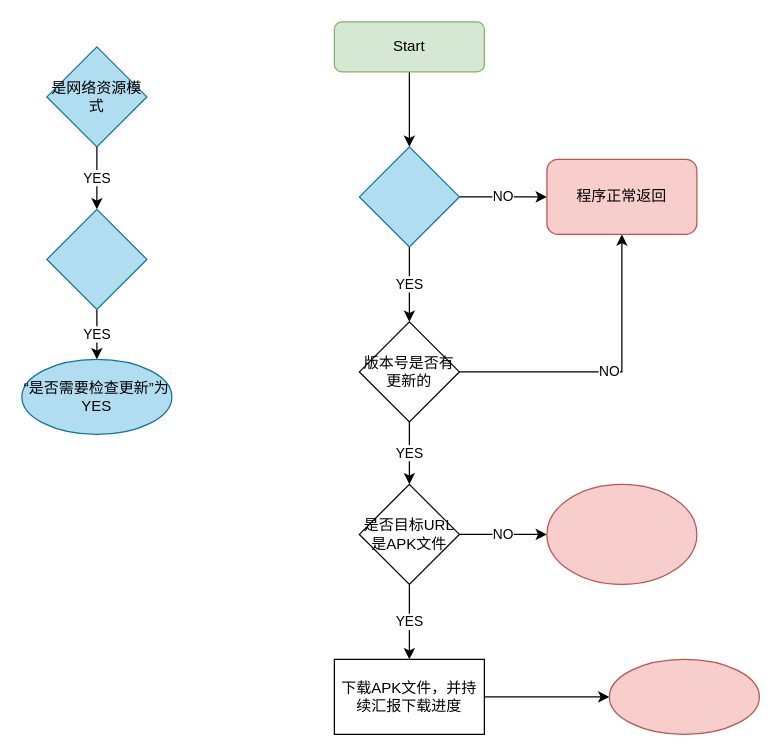
This 781x756 diagram has some shape labels left out. Here are the shapes that lost their labels. From the top down, the centre of each, then its label:
At [408,196]: "是否需要检查更新".
At [96,258]: "是否内嵌资源模式不为“仅使用内嵌资源”".
At [621,533]: "OpenUrl到目标URL".
At [683,696]: "下载完成后安装APK".
